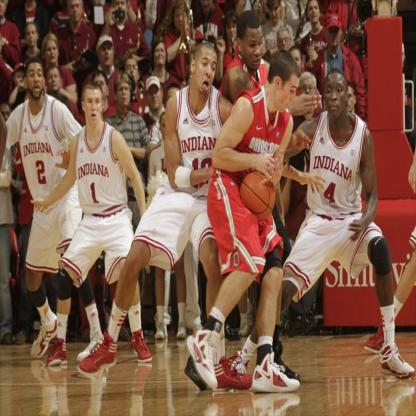face: (196, 47, 218, 96), (326, 74, 347, 119), (243, 27, 264, 71), (277, 77, 300, 113), (301, 76, 316, 117), (86, 90, 102, 126), (27, 63, 42, 99), (100, 41, 114, 66), (125, 59, 139, 84), (289, 50, 303, 75), (94, 75, 107, 101), (118, 84, 132, 108), (155, 43, 168, 67), (148, 86, 162, 108), (46, 42, 59, 65), (168, 90, 181, 113), (1, 107, 14, 130), (343, 87, 354, 114), (47, 69, 59, 93), (278, 30, 290, 54), (176, 9, 188, 31), (70, 2, 83, 22), (328, 28, 341, 47), (26, 26, 37, 47), (161, 116, 171, 139), (115, 1, 127, 20), (269, 3, 280, 22), (228, 23, 238, 42), (310, 3, 320, 22), (16, 73, 26, 90), (1, 1, 9, 19), (201, 1, 212, 12)
